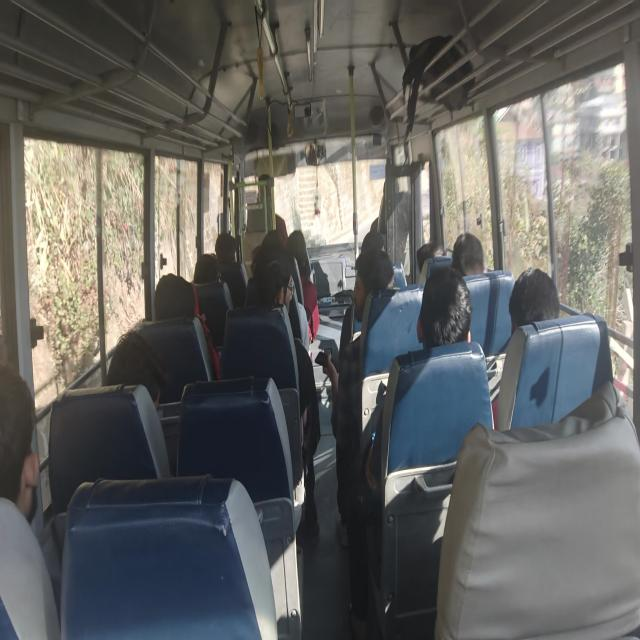person: (353, 265, 488, 636), (364, 265, 472, 494), (320, 230, 395, 546), (246, 248, 320, 536), (0, 361, 60, 638), (490, 267, 560, 427), (153, 272, 221, 380), (338, 230, 394, 359), (497, 267, 560, 354), (105, 329, 168, 415), (416, 265, 472, 348), (286, 229, 320, 343), (214, 231, 247, 307), (451, 232, 485, 275), (416, 240, 445, 275), (193, 253, 218, 283)
